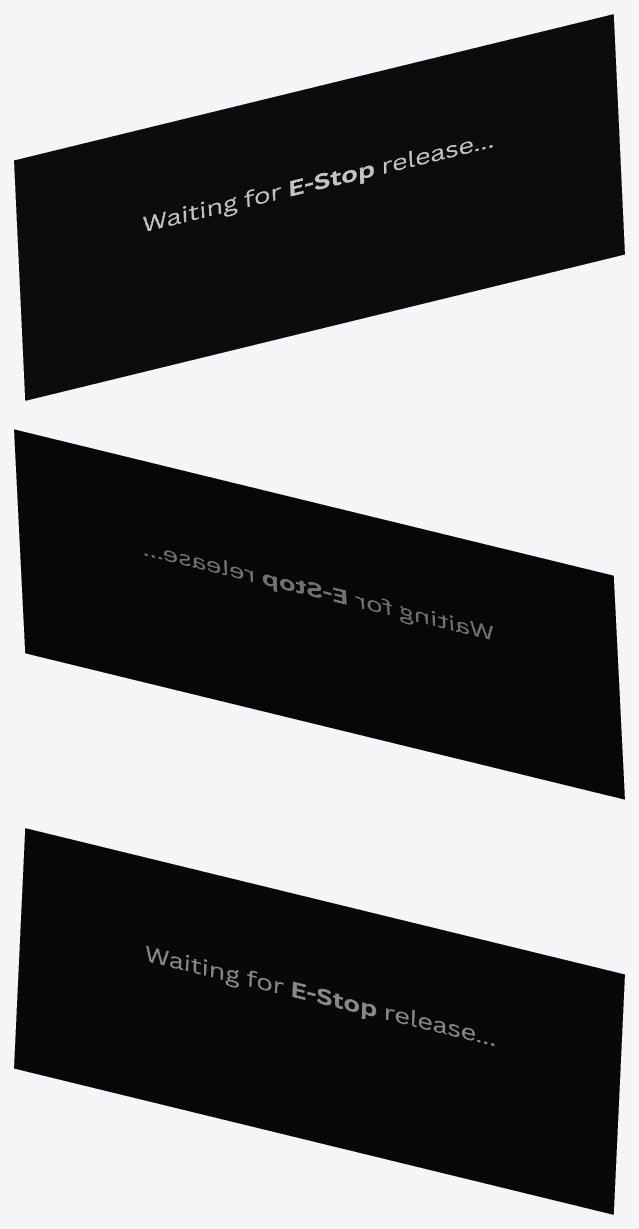
Rendered from ScreenHMI_Estop.glb.
3 views of the same model, one above another, from view 1: azimuth 30°, elevation 25°; view 2: azimuth 150°, elevation 25°; view 3: azimuth 330°, elevation 25° (orthographic).
Visible parts, largest first — view 1: ScreenHMI_Estop; view 2: ScreenHMI_Estop; view 3: ScreenHMI_Estop.
Boxes of the visible parts, x1,y1,x2,y2 form: ScreenHMI_Estop: (14,14,624,400); ScreenHMI_Estop: (14,429,624,799); ScreenHMI_Estop: (14,828,624,1214).
Size of the model in its own units: 0.266 by 0.0984 by 0.00861.
Materials: 1 (1 with a texture image).
